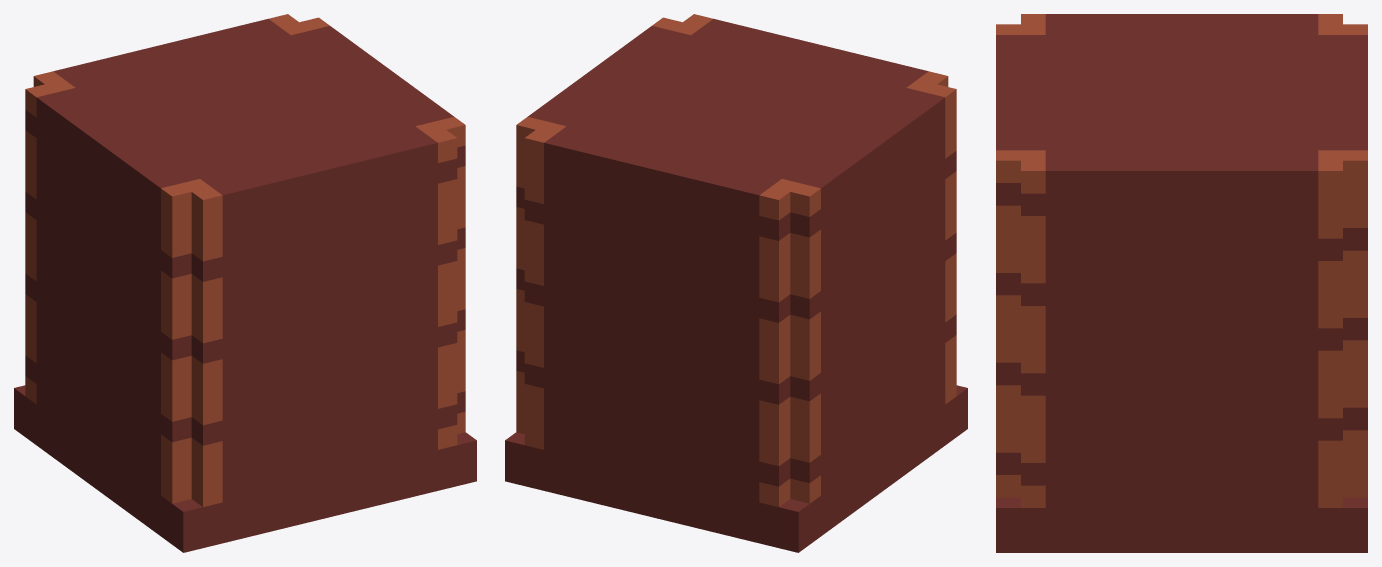
File: dungeon_b_b_inner_wall_crossing.obj
3 views of the same model, side by side, from view 1: azimuth 30°, elevation 25°; view 2: azimuth 150°, elevation 25°; view 3: azimuth 270°, elevation 25° (orthographic). The views are drawn at different scales.
Bounding box in the file's own units: 1.5 × 1.7 × 1.5.
1 material, 1 textured.
